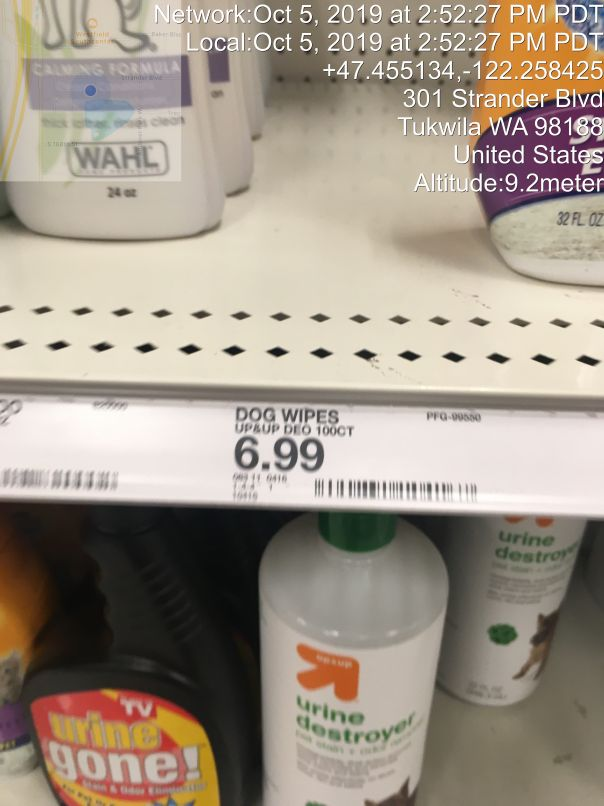Label: (222, 399, 494, 517)
Location: (390, 82, 604, 171)
Time: (143, 5, 604, 53)
Void: (254, 29, 459, 373)
